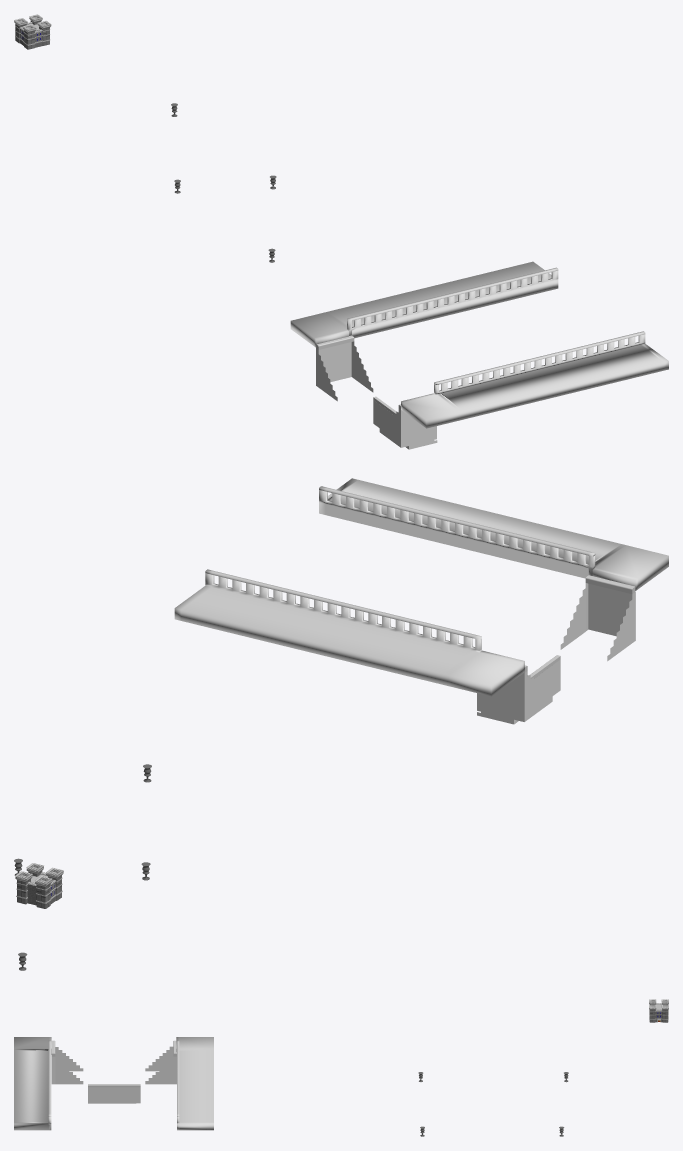
The model's file is castle.fbx.
3 renders of one model, top to bottom at view 1: azimuth 30°, elevation 25°; view 2: azimuth 150°, elevation 25°; view 3: azimuth 270°, elevation 25°, orthographic. The views are drawn at different scales.
Visible parts, largest first — view 1: Cube.005; view 2: Cube.005; view 3: Cube.005.
Boxes of the visible parts, x1,y1,x2,y2 form: Cube.005: (14, 14, 668, 449); Cube.005: (14, 478, 668, 970); Cube.005: (14, 999, 668, 1136).
Bounding box in the file's own units: 15421 × 8585 × 48979.
